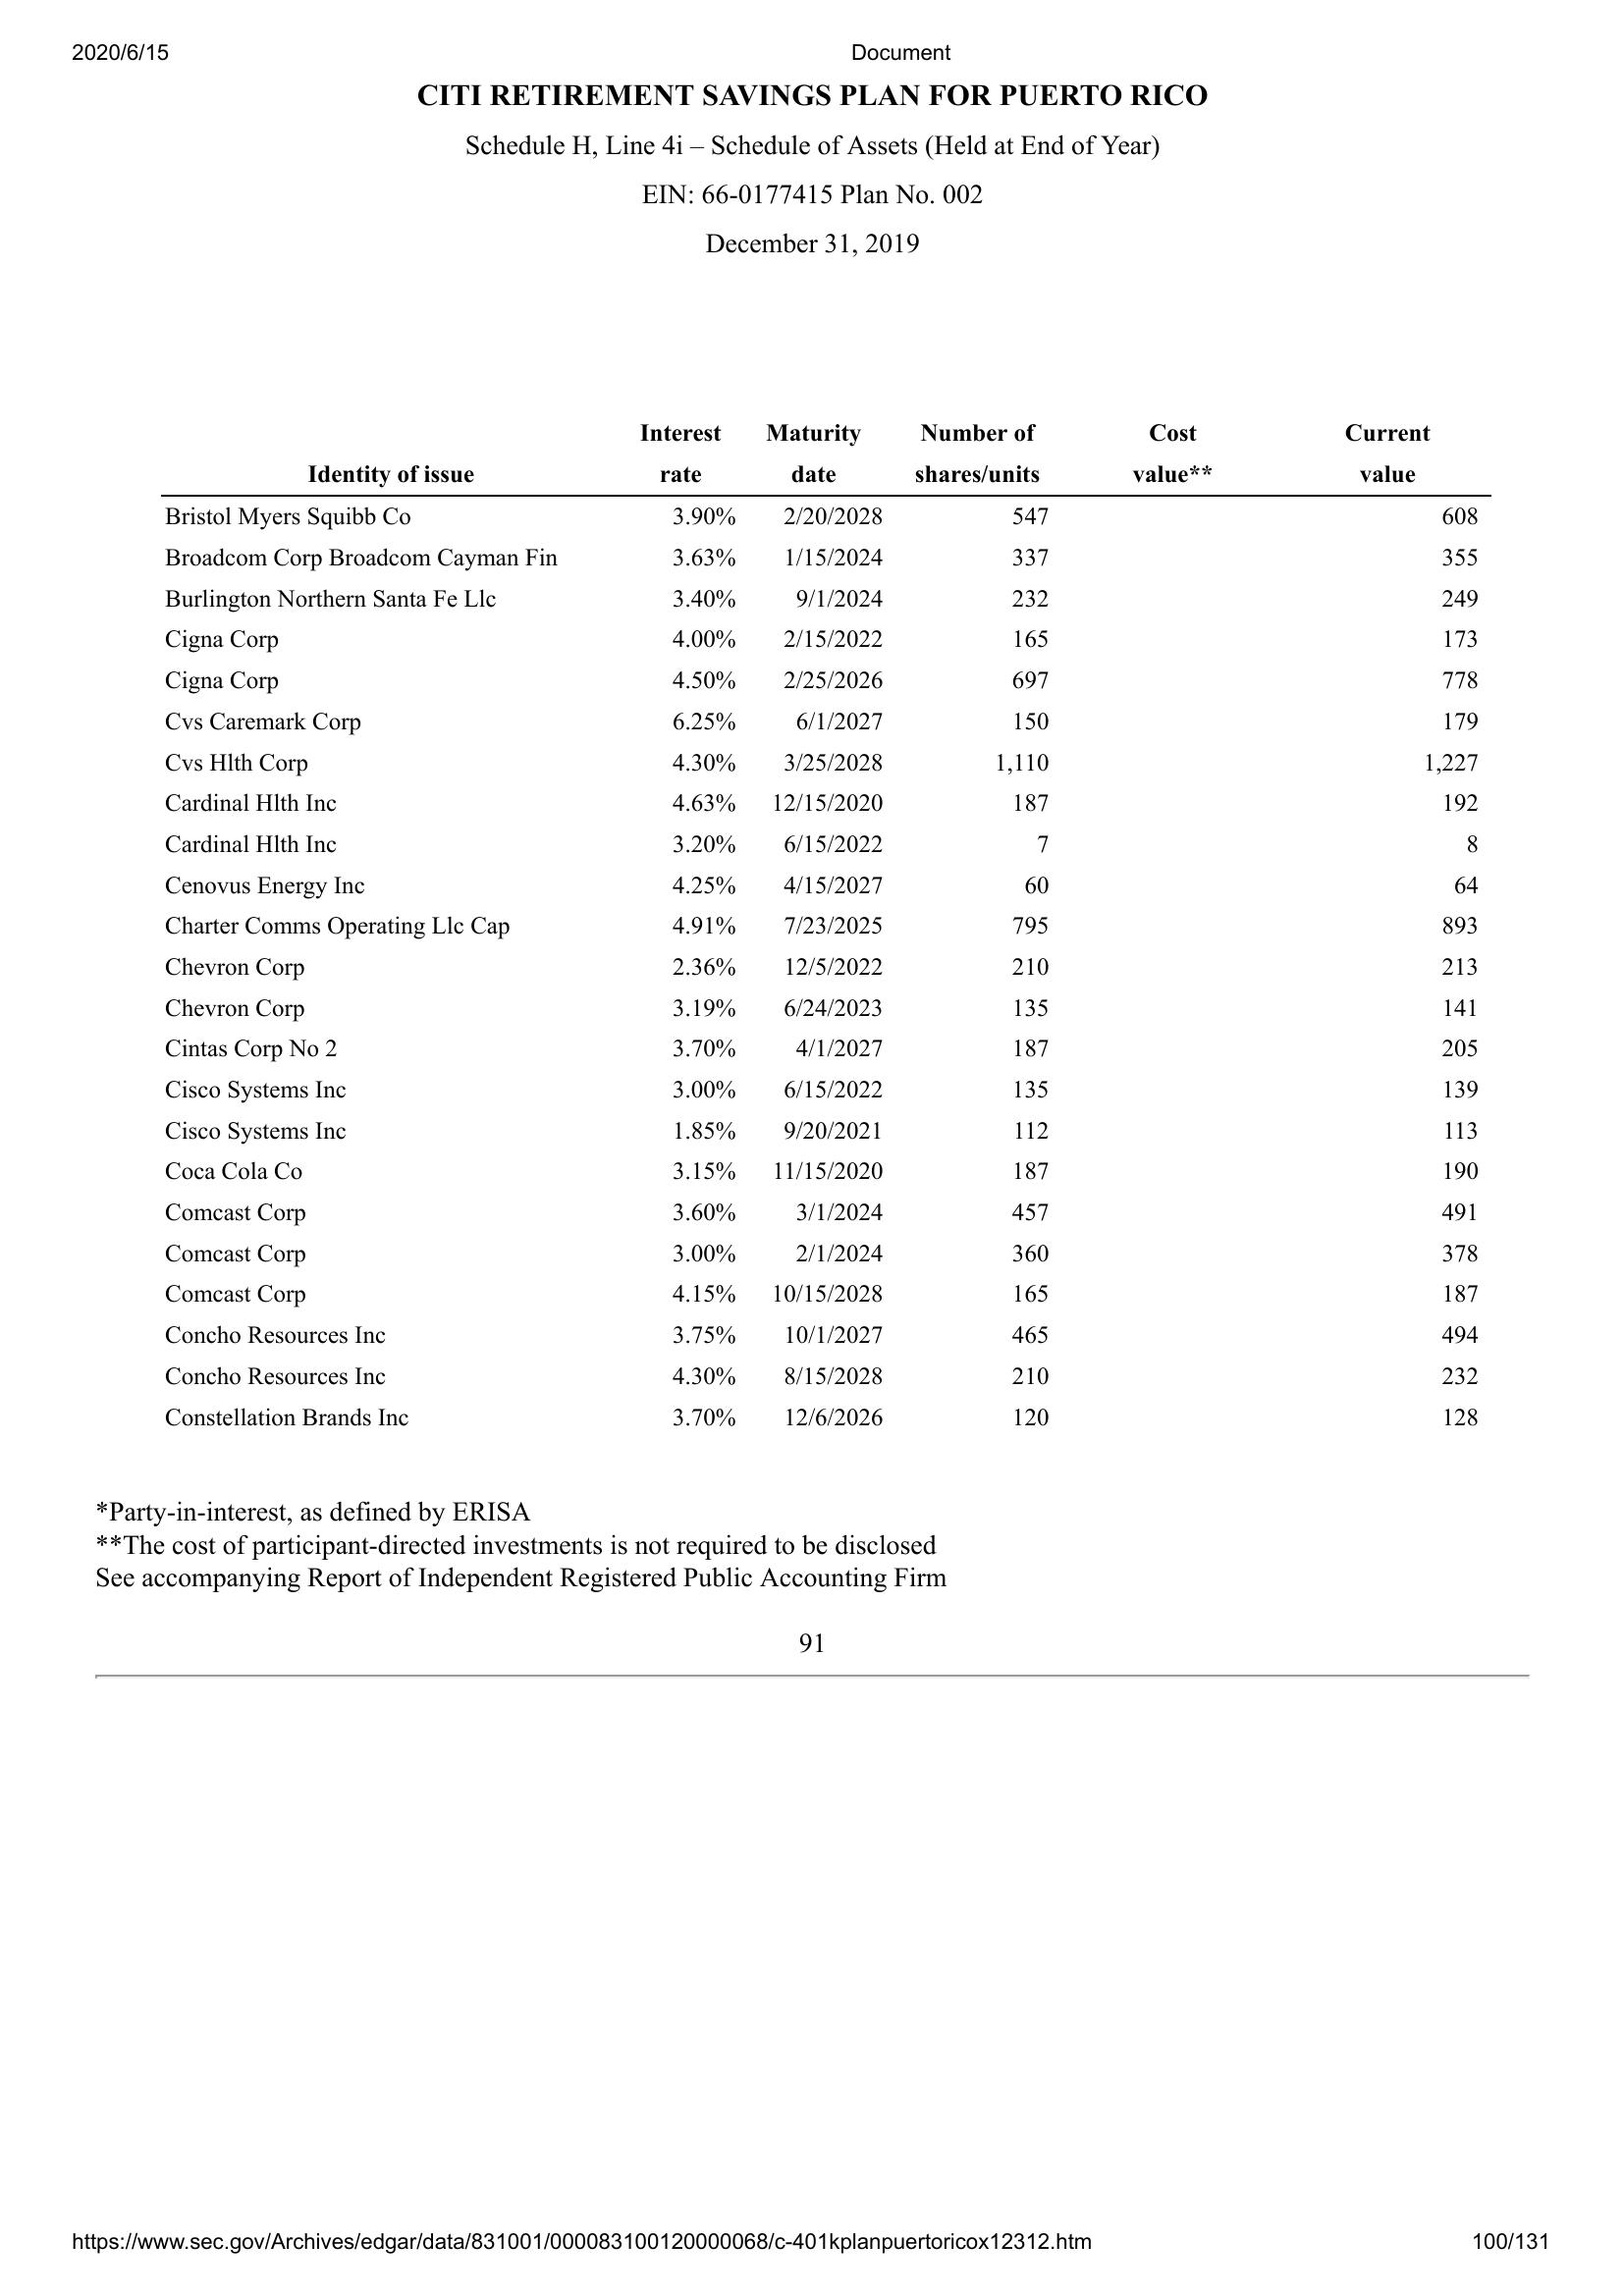table: (144, 413, 1500, 1462)
